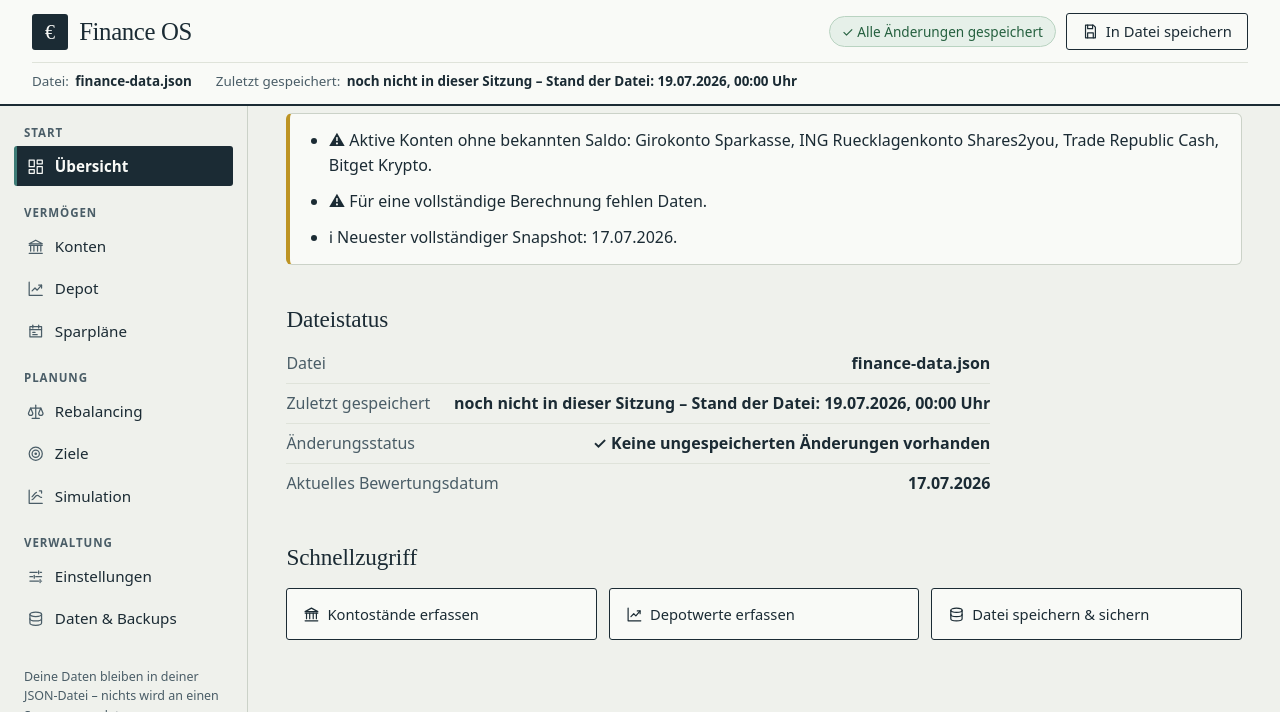
it: DashboardPage – Navigation › „Zu Konten“ und „Zu Daten & Backups“ führen zu den jeweiligen Seiten
The image size is (1280, 712).
(page scrolled)
Click the button "Kontostände erfassen".
click(442, 614)  # box left=286, top=588, right=597, bottom=640
(page scrolled)
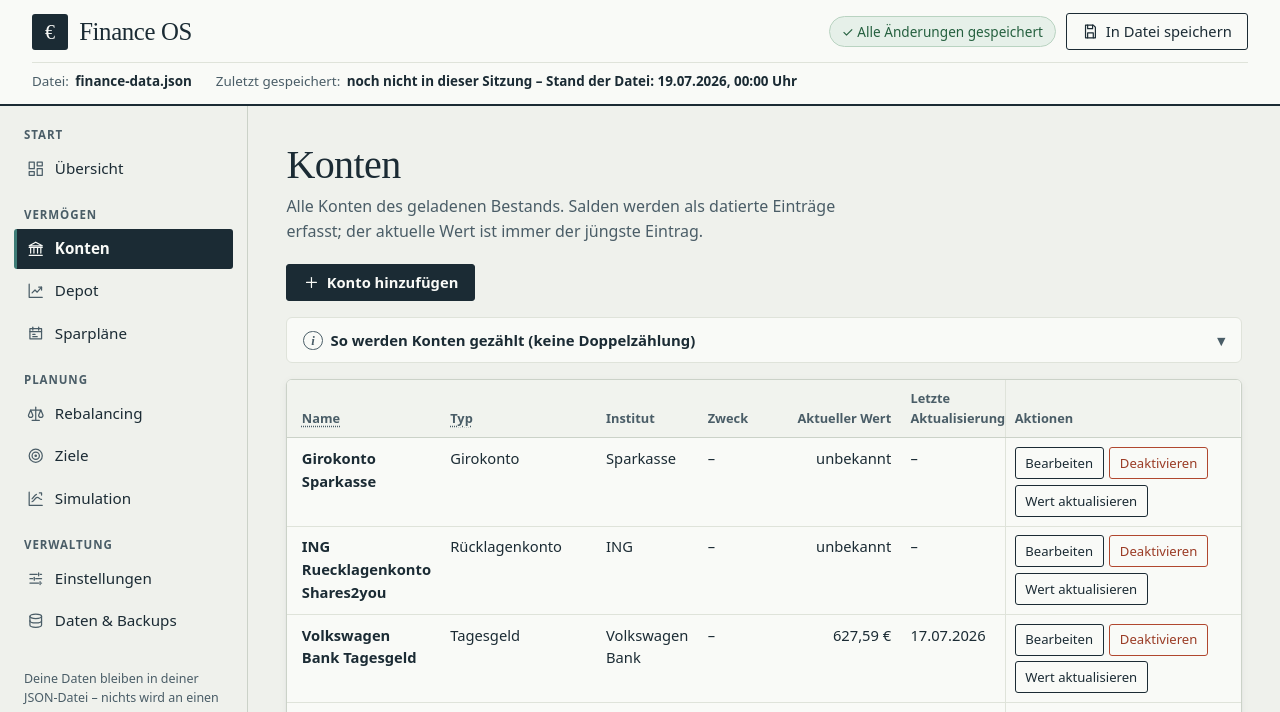
Result: the heading "Konten" is shown at left=286, top=142, right=401, bottom=187
# Zurück zur Übersicht über die Hauptnavigation, dann weiter zu Daten & Backups.
Click the button "Übersicht".
click(124, 168)  # box left=14, top=148, right=233, bottom=188
(page scrolled)
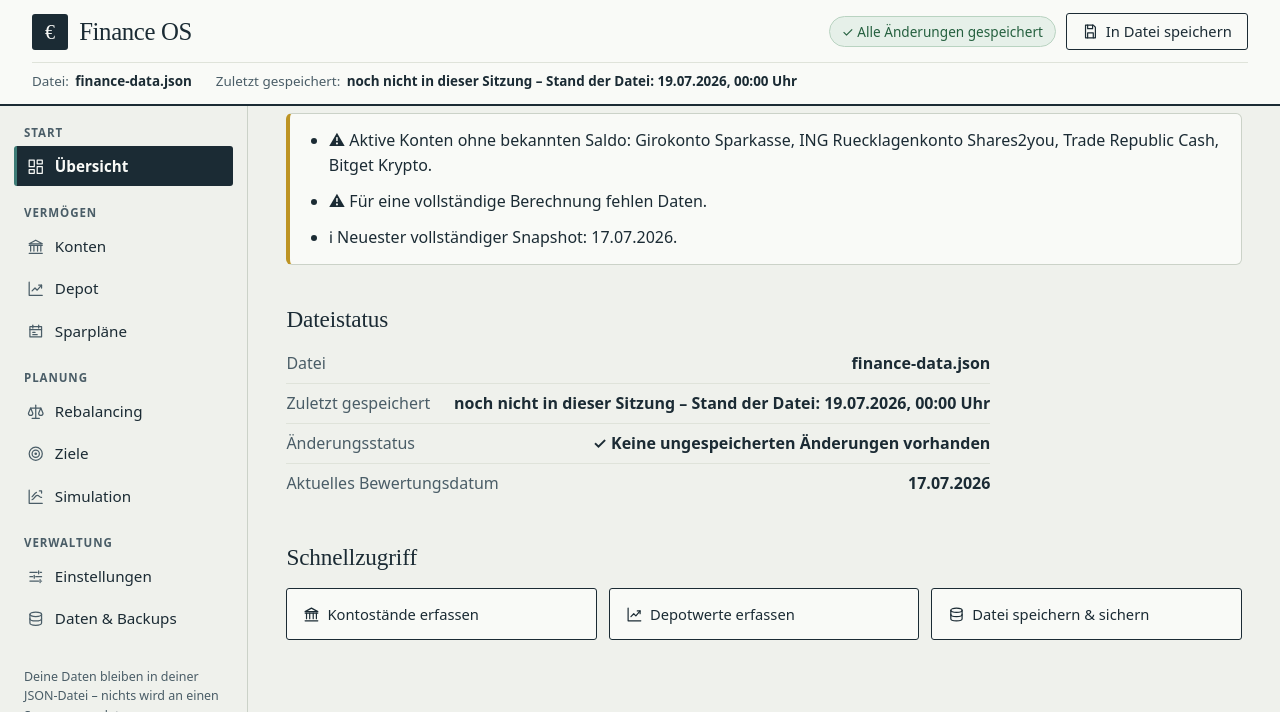
Click the button "Datei speichern & sichern".
click(1086, 614)  # box left=931, top=588, right=1242, bottom=640
(page scrolled)
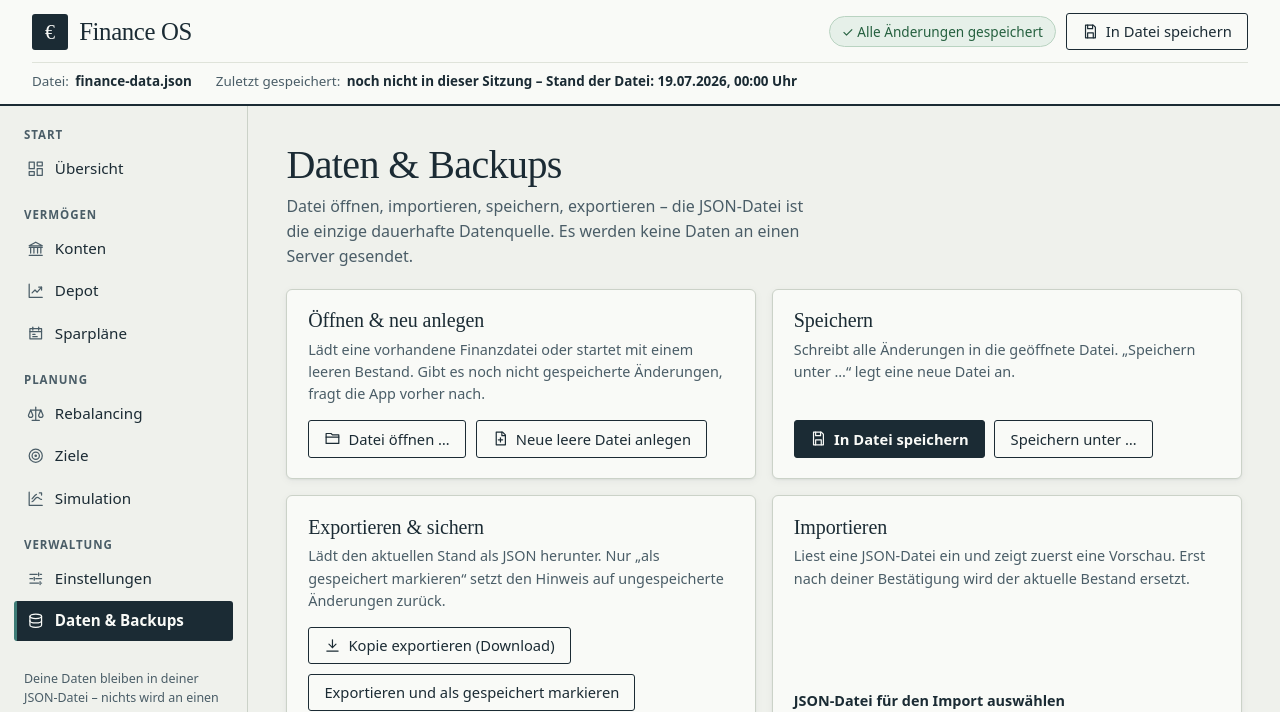
Result: the heading "Daten & Backups" is shown at left=286, top=142, right=562, bottom=187
